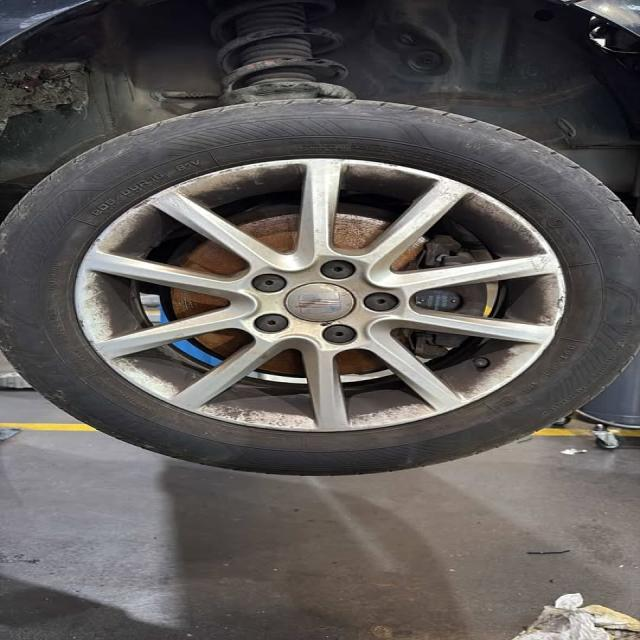jante: (73, 158, 569, 434)
parafuso: (243, 270, 290, 298), (319, 320, 360, 349), (361, 289, 404, 316), (248, 310, 290, 337), (316, 257, 358, 282)
roda: (0, 99, 640, 477)
